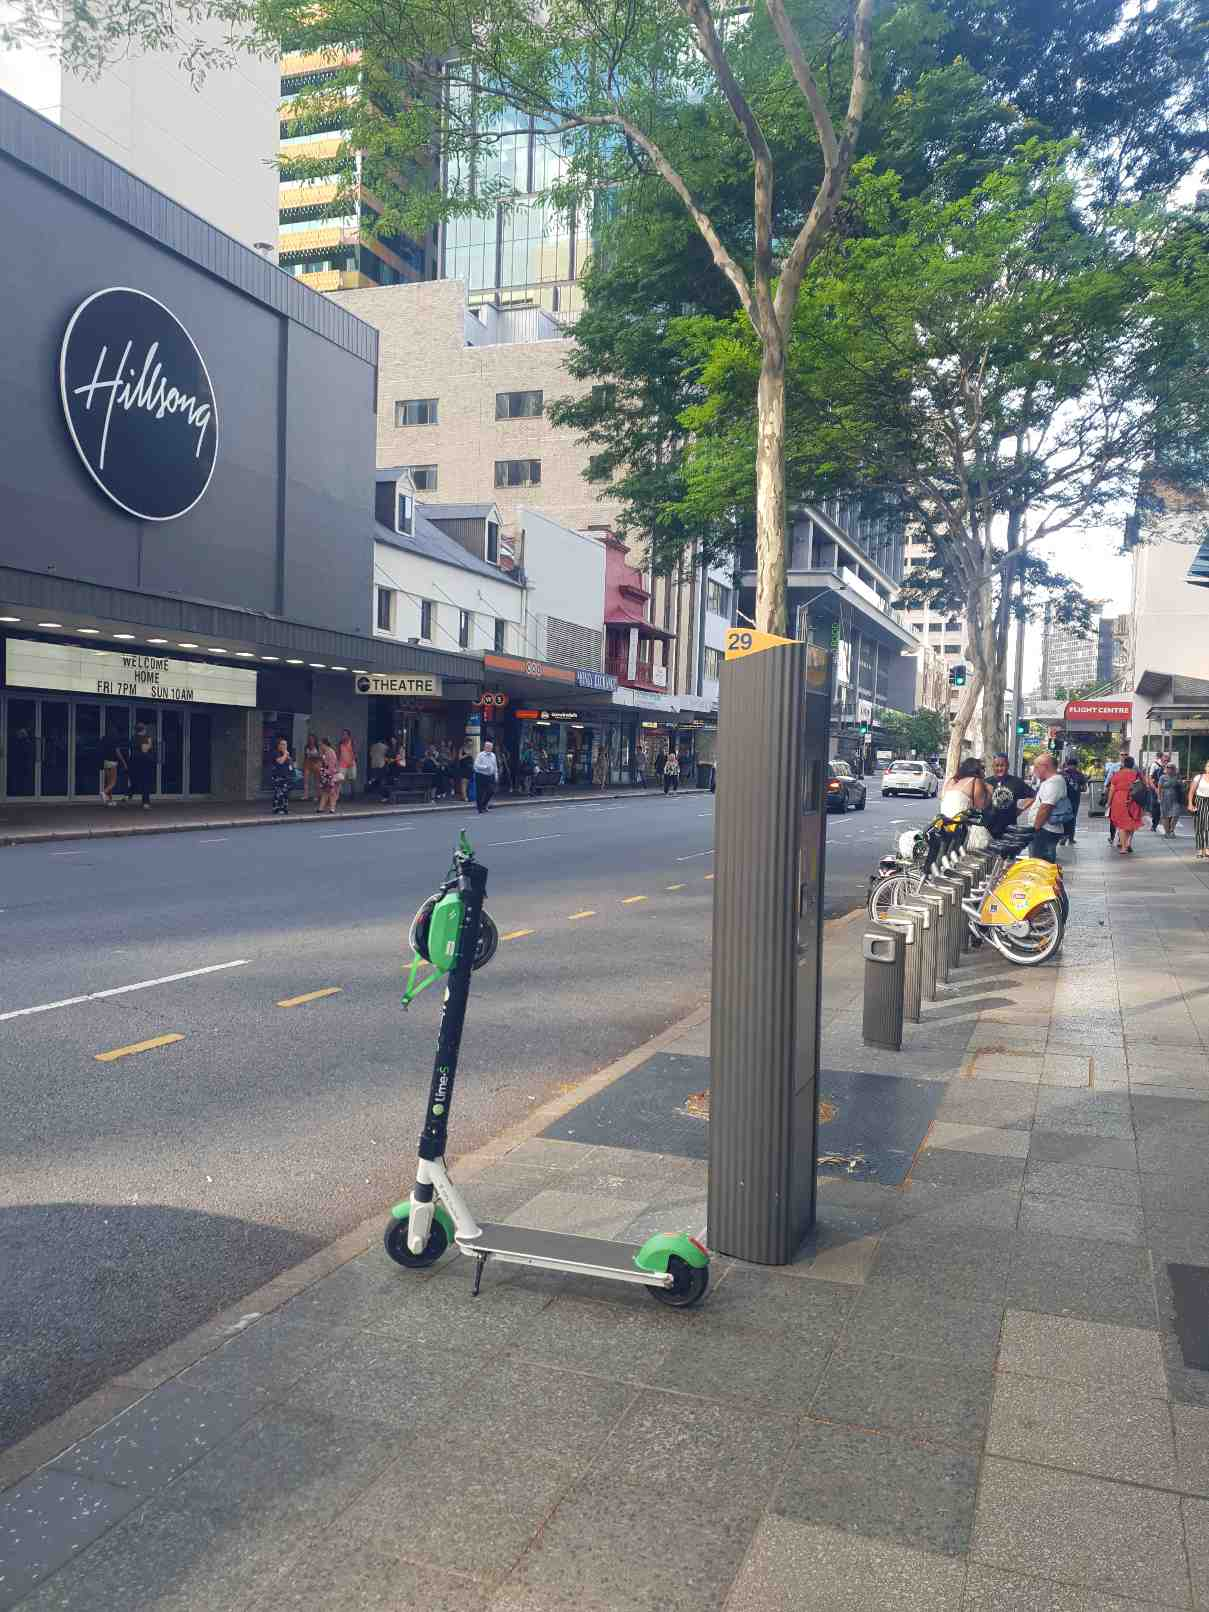scooter: (359, 770, 740, 1333)
